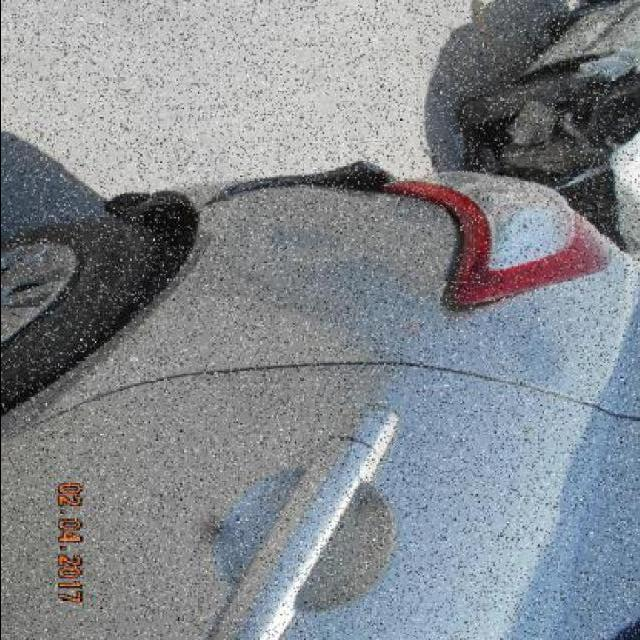doorouter-dent: (1, 360, 634, 639)
rear-bumper-dent: (30, 145, 444, 362)
